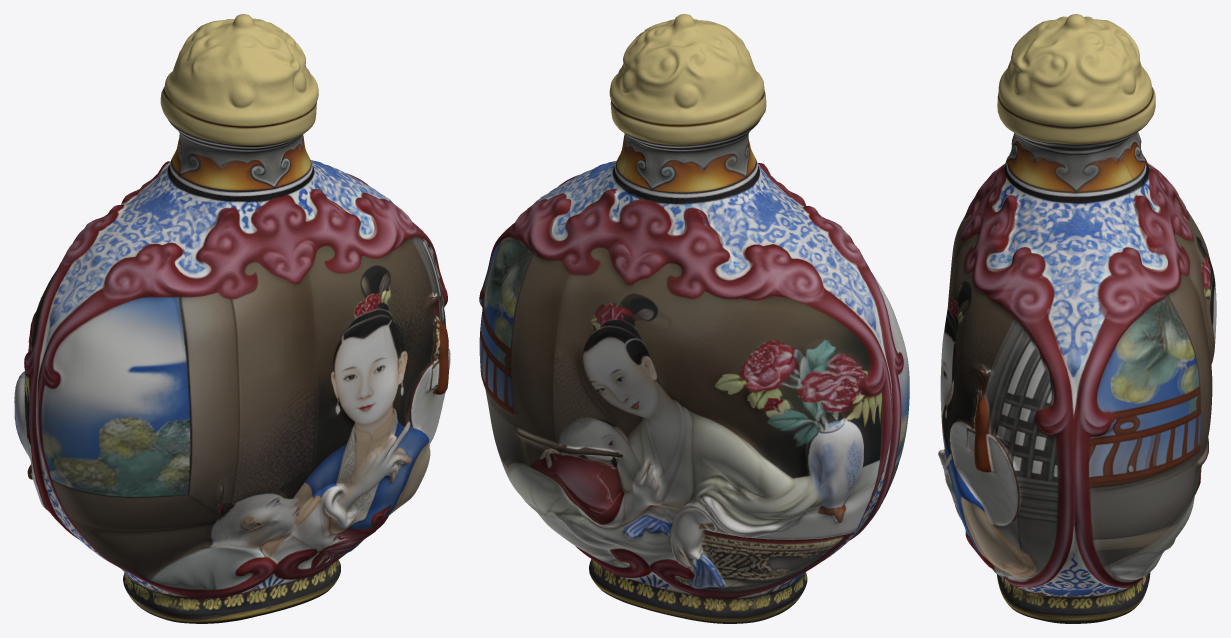
The model's file is 铜胎画珐琅课子图鼻烟壶.glb.
The picture shows the model from 3 angles, left to right: view 1: azimuth 30°, elevation 25°; view 2: azimuth 150°, elevation 25°; view 3: azimuth 270°, elevation 25°; orthographic projection.
Parts seen in each view (by area): view 1: tripo_node_bf06cf4a; view 2: tripo_node_bf06cf4a; view 3: tripo_node_bf06cf4a.
Part boxes in pixels (left/top/right/bottom): tripo_node_bf06cf4a: left=14, top=14, right=450, bottom=623; tripo_node_bf06cf4a: left=479, top=14, right=909, bottom=623; tripo_node_bf06cf4a: left=938, top=14, right=1216, bottom=623.
Size of the model in its own units: 72.75 by 97.84 by 43.22.
Materials: 1 (1 with a texture image).
